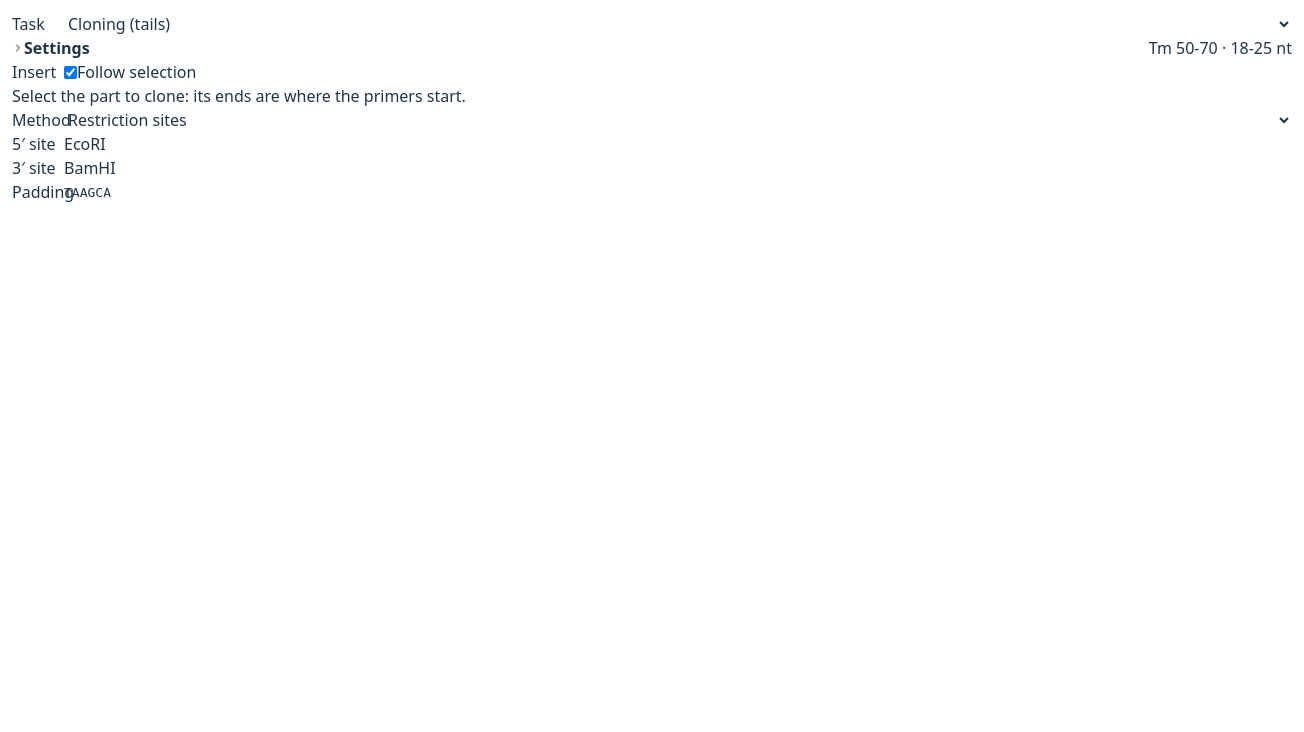
Test case: workbench tasks › cloning: warns when the enzyme also cuts inside the insert
# A "site" typed straight from the middle of the insert is sure to cut it.
Replace the text in the field labelled "5′ site" with "TAGTGC". click: (678, 144)
box: [64,133,1292,155]
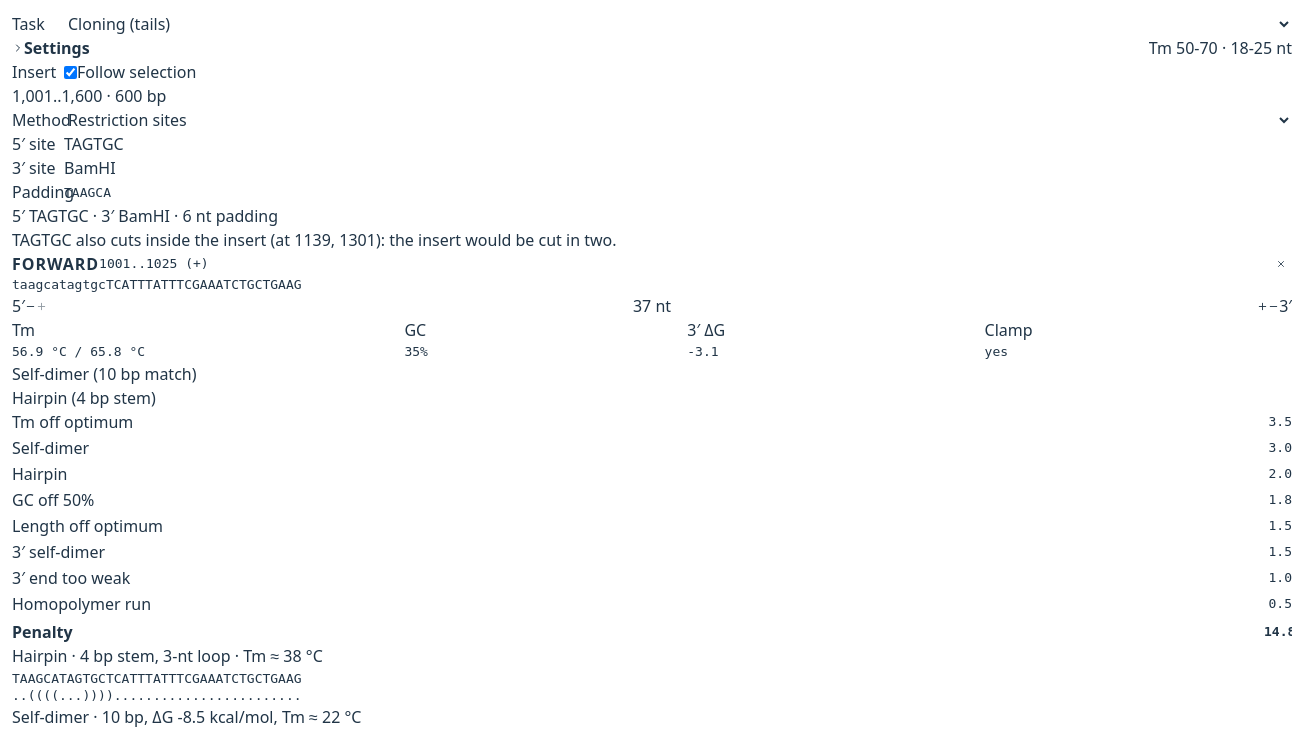
Expected: the text "also cuts inside the insert" is shown, [12,229,616,251]
